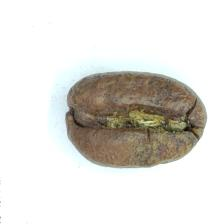NG: (76, 87, 192, 157)
